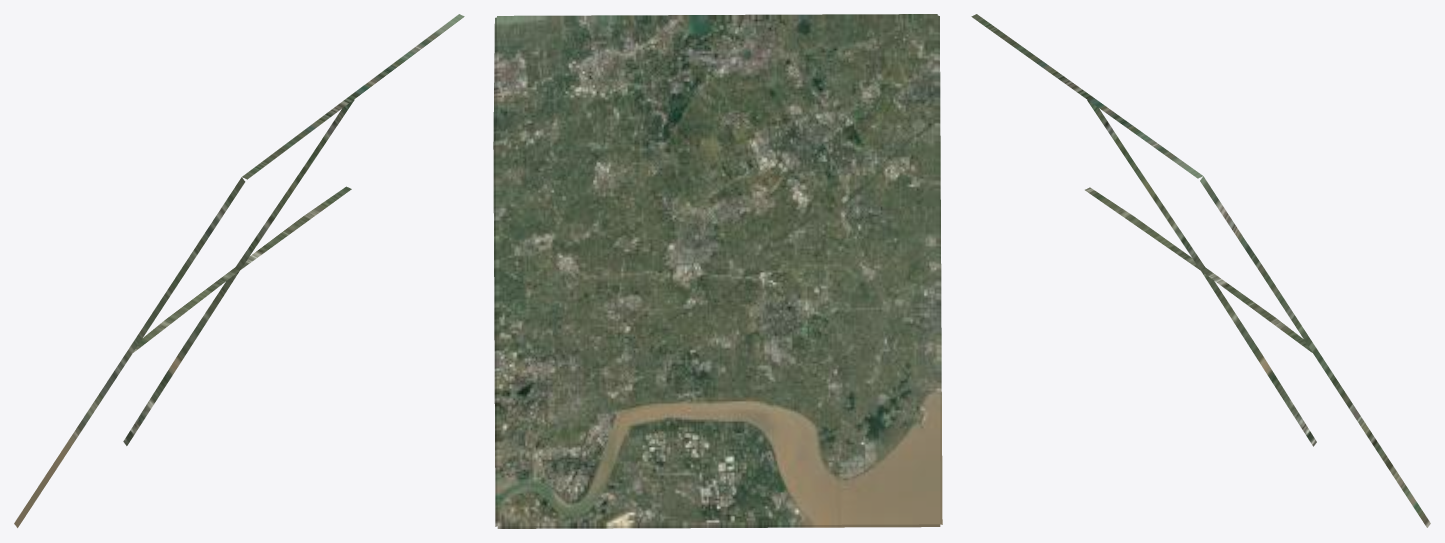
3 renders of one model, left to right at view 1: azimuth 30°, elevation 25°; view 2: azimuth 150°, elevation 25°; view 3: azimuth 270°, elevation 25°, orthographic.
Bounding box in the file's own units: 79065 × 68161 × 69668.
Materials: 1 (1 with a texture image).
